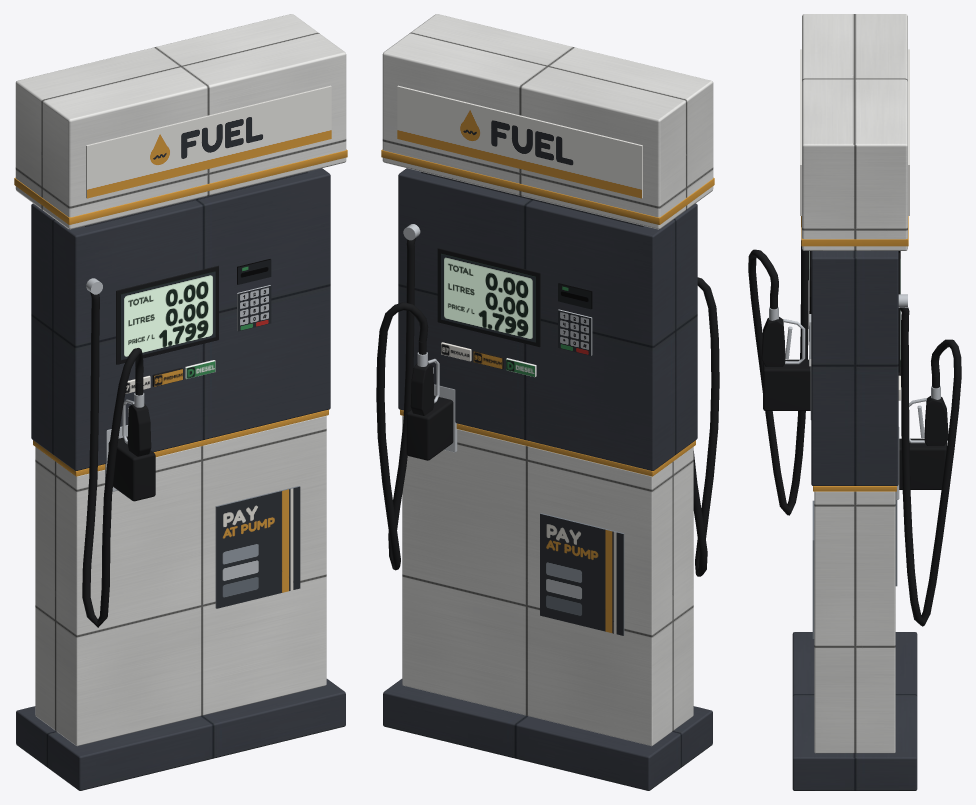
Rendered from gs_pump_modern.glb.
3 views of the same model, side by side, from view 1: azimuth 30°, elevation 25°; view 2: azimuth 150°, elevation 25°; view 3: azimuth 270°, elevation 25° (orthographic). The views are drawn at different scales.
Visible parts, largest first — view 1: gs_pump_modern, hose_F, nozzle_F; view 2: gs_pump_modern, hose_B, hose_F, nozzle_B; view 3: gs_pump_modern, hose_B, hose_F, nozzle_F, nozzle_B.
Boxes of the visible parts, left/top/right/bottom form: gs_pump_modern: left=14, top=14, right=347, bottom=790; hose_F: left=82, top=292, right=143, bottom=627; nozzle_F: left=122, top=382, right=151, bottom=456; gs_pump_modern: left=381, top=14, right=714, bottom=790; hose_B: left=376, top=238, right=428, bottom=570; hose_F: left=693, top=277, right=719, bottom=576; nozzle_B: left=410, top=341, right=439, bottom=415; gs_pump_modern: left=763, top=14, right=946, bottom=790; hose_B: left=899, top=307, right=961, bottom=626; hose_F: left=748, top=216, right=808, bottom=515; nozzle_F: left=761, top=296, right=805, bottom=366; nozzle_B: left=909, top=375, right=948, bottom=445.
Size of the model in its own units: 1 by 2.3 by 0.6848.
Materials: 6 (3 with a texture image).
